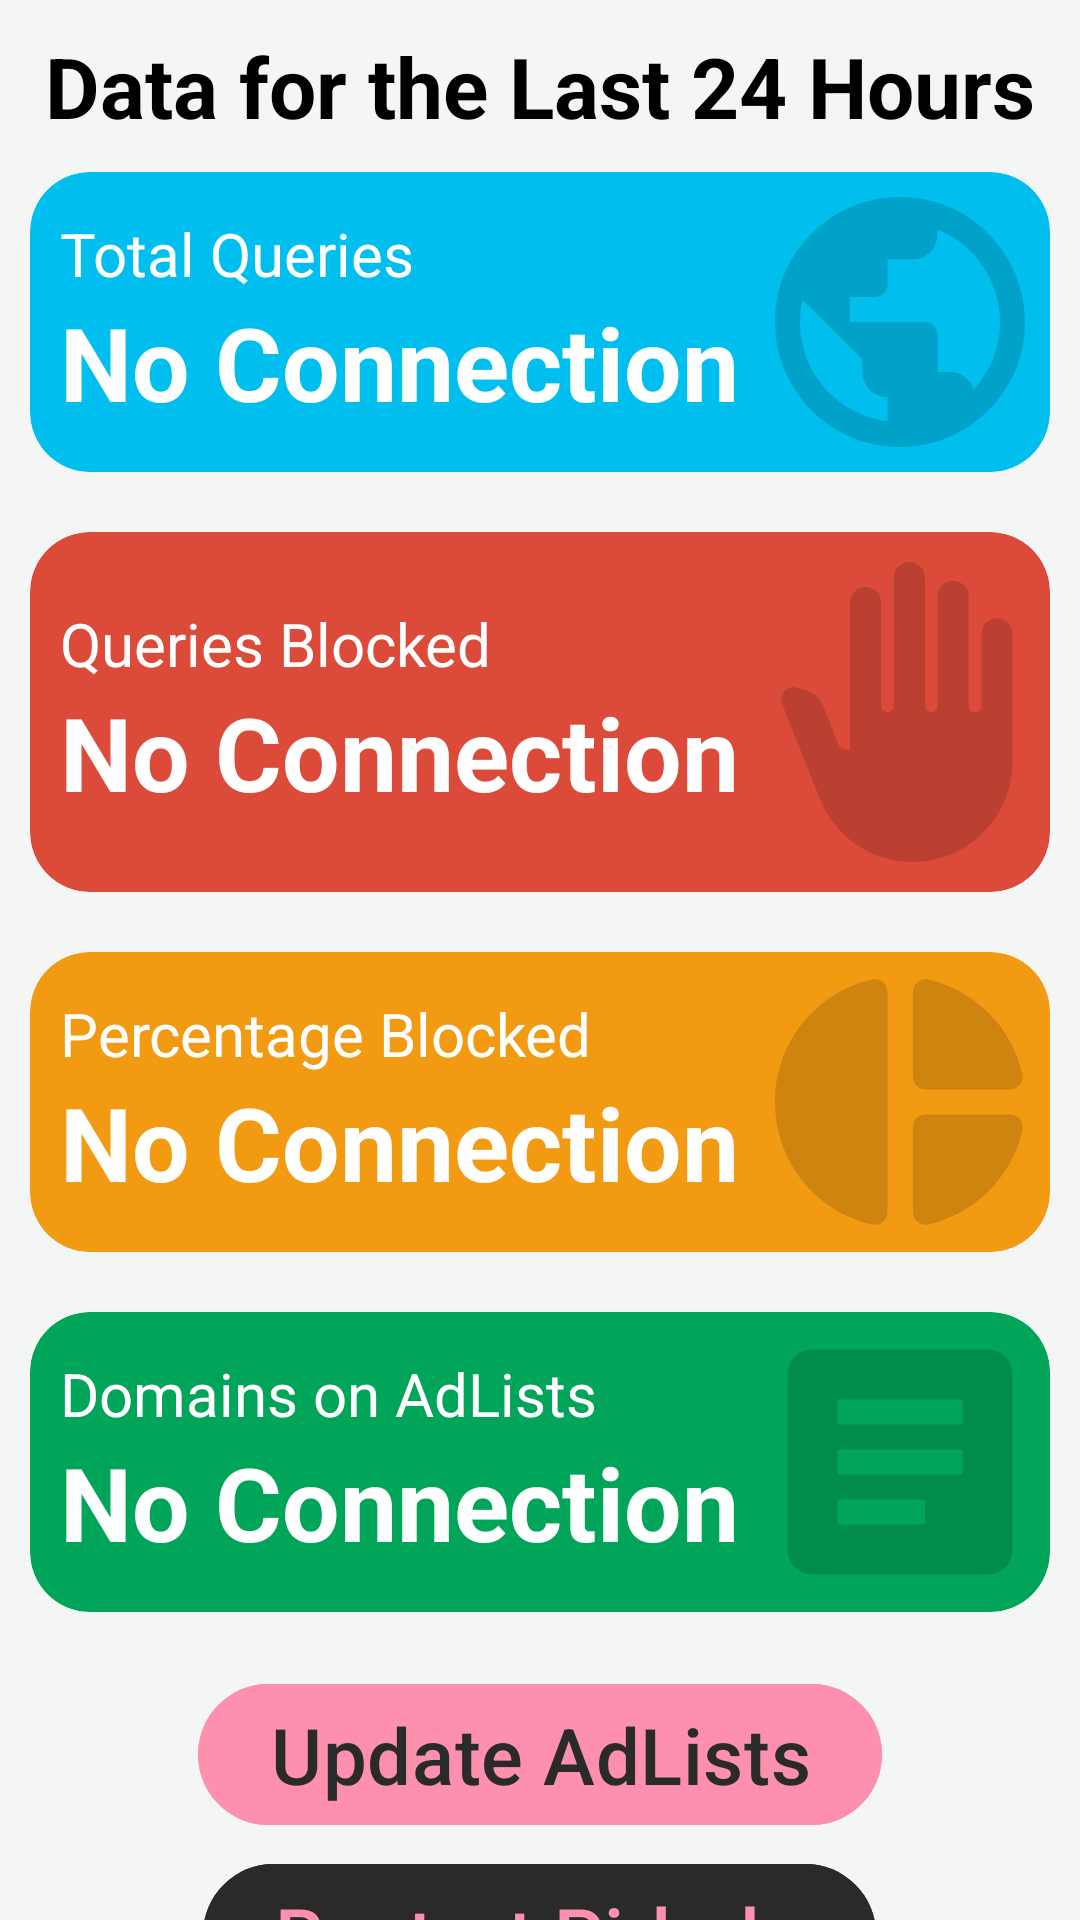

Named icons in this screenshot (1080w x 1920h) and their centers, (x,y):
blocked percent: (900,1102)
domains on adlist: (900,1462)
queries blocked: (896,712)
total queries: (900,322)
